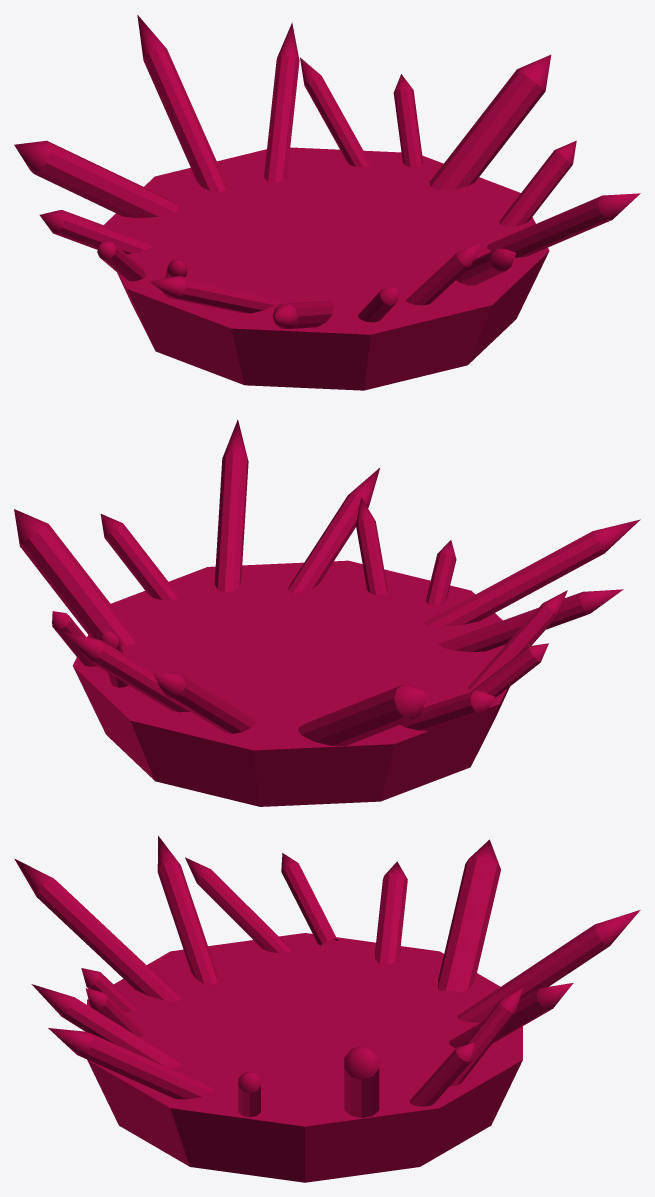
Rendered from BaseBatalla.fbx.
3 views of the same model, one above another, from view 1: azimuth 30°, elevation 25°; view 2: azimuth 150°, elevation 25°; view 3: azimuth 270°, elevation 25° (orthographic).
Parts seen in each view (by area): view 1: BaseBatalla1; view 2: BaseBatalla1; view 3: BaseBatalla1.
Boxes of the visible parts, bbox=[...] form: BaseBatalla1: bbox=[14, 15, 640, 390]; BaseBatalla1: bbox=[14, 419, 640, 806]; BaseBatalla1: bbox=[14, 835, 640, 1182].
Bounding box in the file's own units: 2.7 × 0.9206 × 2.9.
